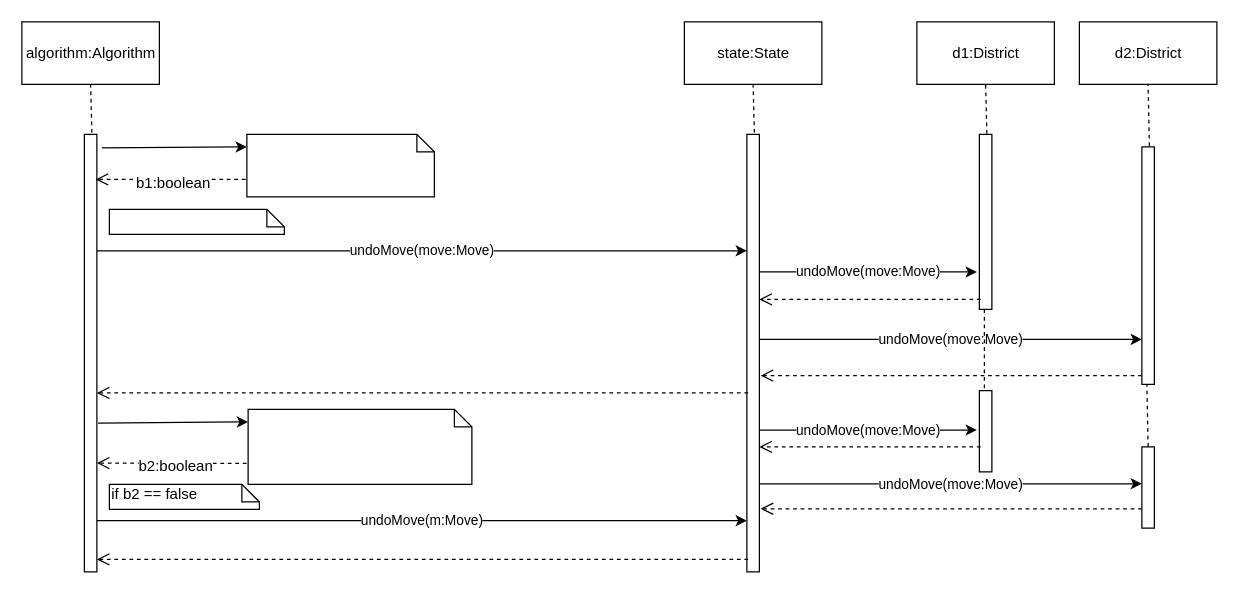
The diagram is 1239 pixels wide and 594 high, and some of its shapes have lost their labels. The shapes that lost their labels are listed below. From the top down, each one's box as (x1, y1, x2, y2) in pixels, then its label:
(246, 133, 434, 197): see use case #31 majority minority constraint
(108, 208, 284, 234): if b1 == false
(247, 408, 472, 484): see use case #32 and #33 calculate and normalize objective function
